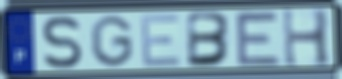B: (185, 11, 234, 69)
E: (233, 9, 284, 67), (138, 12, 183, 68)
G: (88, 14, 136, 69)
H: (280, 7, 334, 69)
S: (41, 14, 84, 71)
